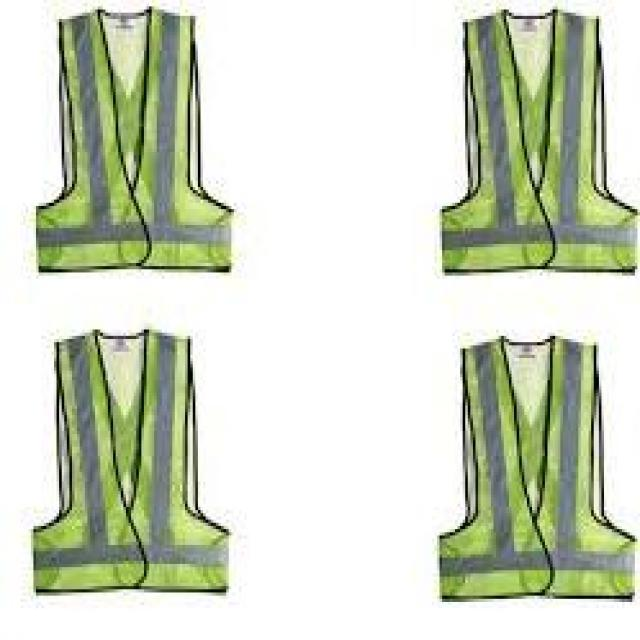Reflective-Jacket: (5, 298, 257, 602), (10, 6, 262, 282), (421, 6, 640, 278)
